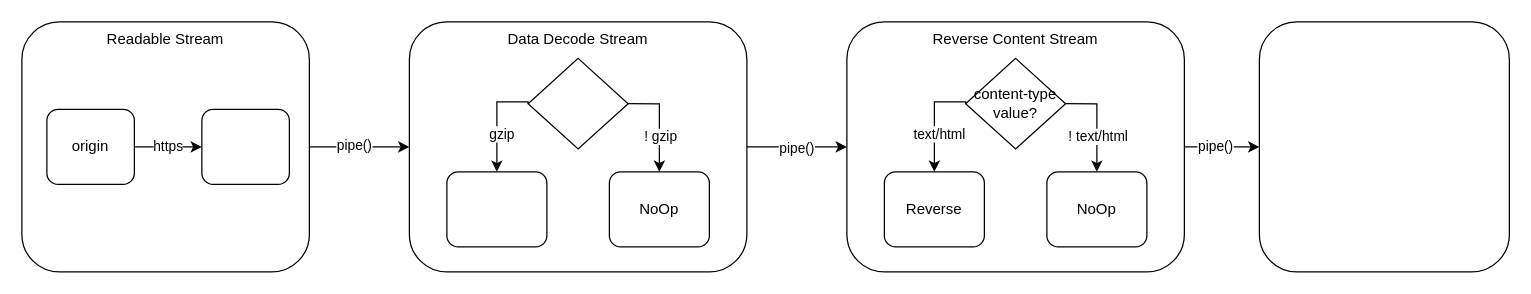
Some shapes in this 1531 by 294 pixel diagram are drawn without their labels. Each missing label, with the centre of its shape:
content-encoding value?: the point at 577,103
GUnzip: the point at 496,209
proxied response: the point at 245,146
Writeable Stream (Target Response): the point at 1383,146
